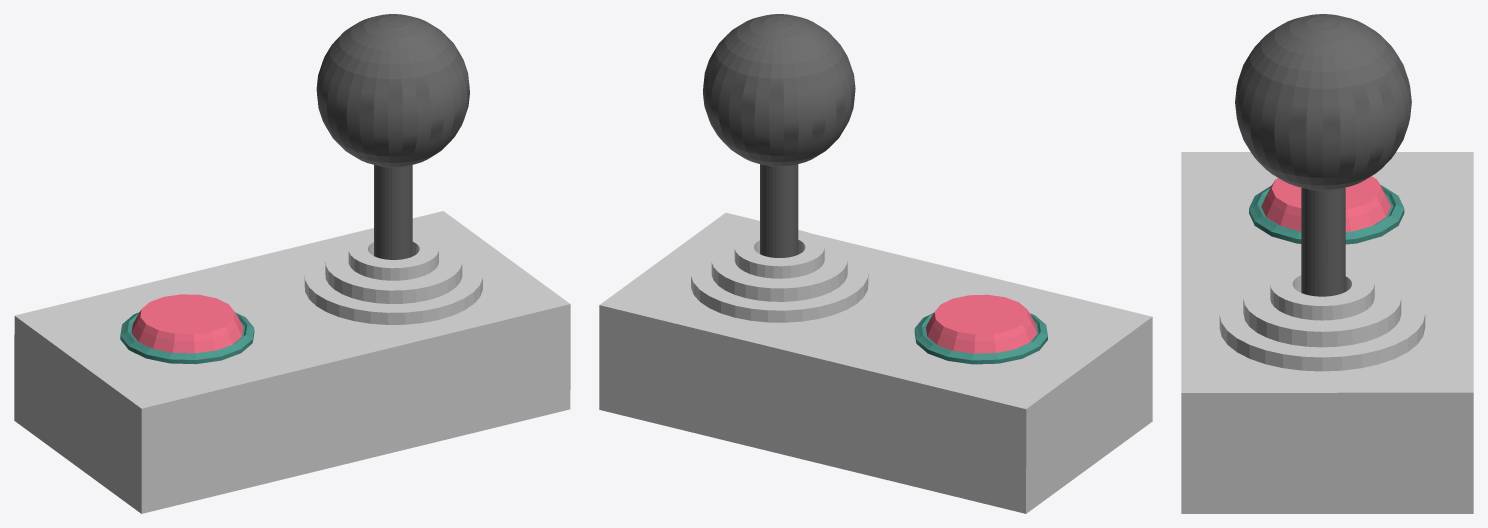
File: JoyStickshader.fbx
3 views of the same model, side by side, from view 1: azimuth 30°, elevation 25°; view 2: azimuth 150°, elevation 25°; view 3: azimuth 270°, elevation 25° (orthographic). The views are drawn at different scales.
Visible parts, largest first — view 1: JoyStickSet, Stick, buttonDown_001; view 2: JoyStickSet, Stick, buttonDown_001; view 3: JoyStickSet, Stick, buttonDown_001.
Part boxes in pixels (x1,y1,x2,y2): JoyStickSet: (14,211,570,513); Stick: (316,14,469,259); buttonDown_001: (131,294,243,353); JoyStickSet: (599,212,1152,513); Stick: (703,14,855,257); buttonDown_001: (926,294,1037,353); JoyStickSet: (1181,152,1473,513); Stick: (1235,14,1411,296); buttonDown_001: (1261,176,1390,231).
Size of the model in its own units: 17.14 by 14.17 by 8.8.
